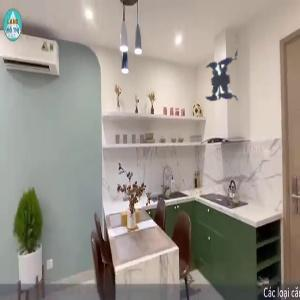drone: (169, 24, 283, 138)
